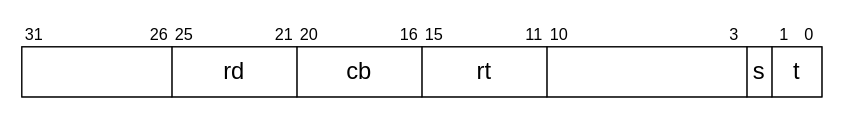
The diagram is 844 pixels wide and 119 high, and some of its shapes have lost their labels. The centre of each missing label's shape, as x and y in pixels:
"0x32" goes at pixel 96 71.
"offset" goes at pixel 646 71.
